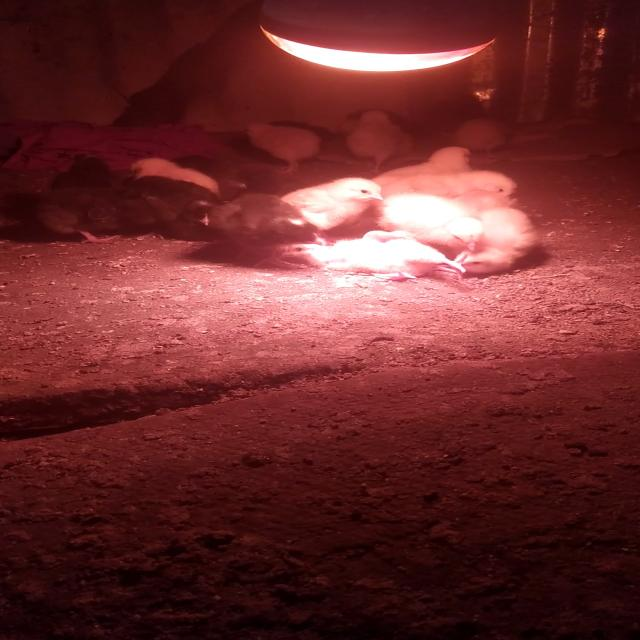chick: (279, 228, 470, 284), (210, 188, 328, 271), (283, 176, 387, 242), (376, 192, 490, 252), (128, 175, 220, 242), (32, 188, 135, 246), (461, 206, 536, 275), (240, 120, 326, 178), (400, 171, 519, 207), (341, 109, 408, 172), (369, 145, 483, 182), (128, 158, 222, 195), (50, 152, 120, 190), (451, 119, 511, 160)
